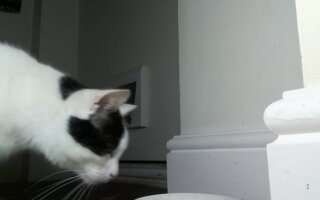bad: (1, 43, 137, 200)
